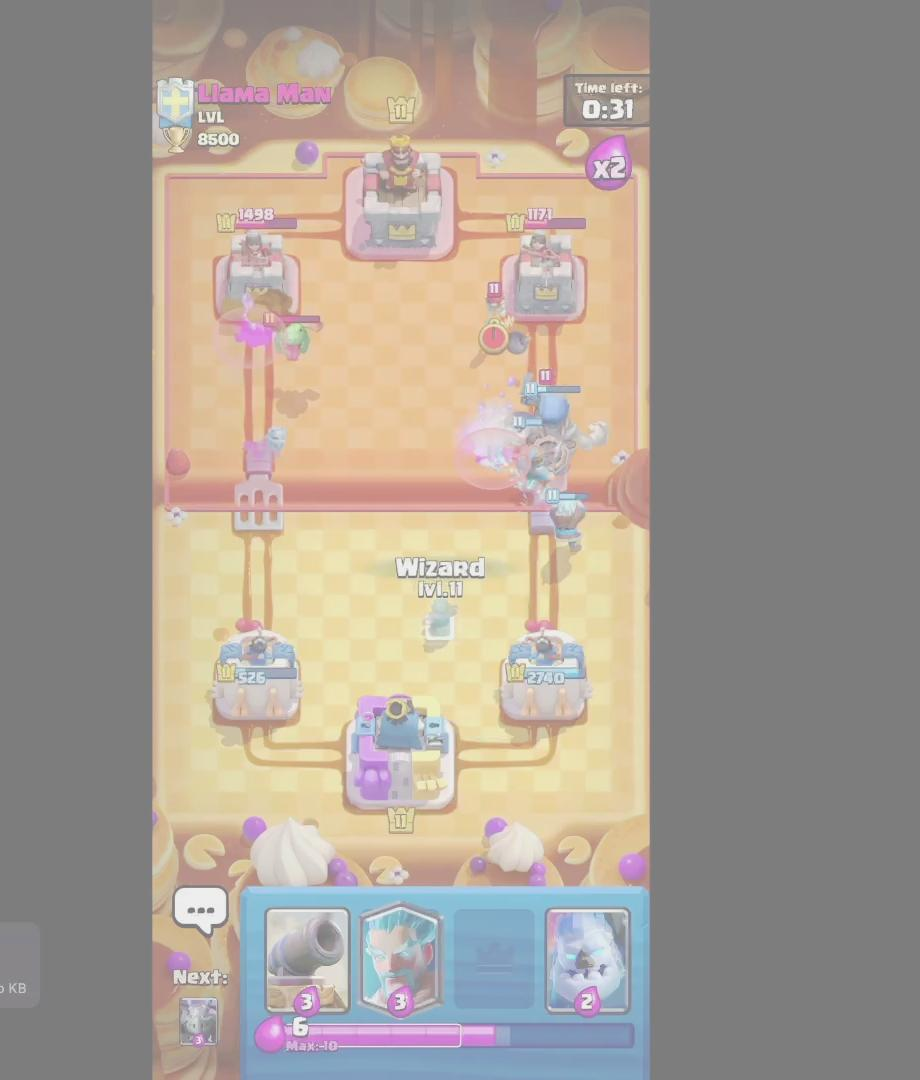Baby Dragon: (262, 305, 325, 364)
Bomber: (478, 279, 533, 360)
